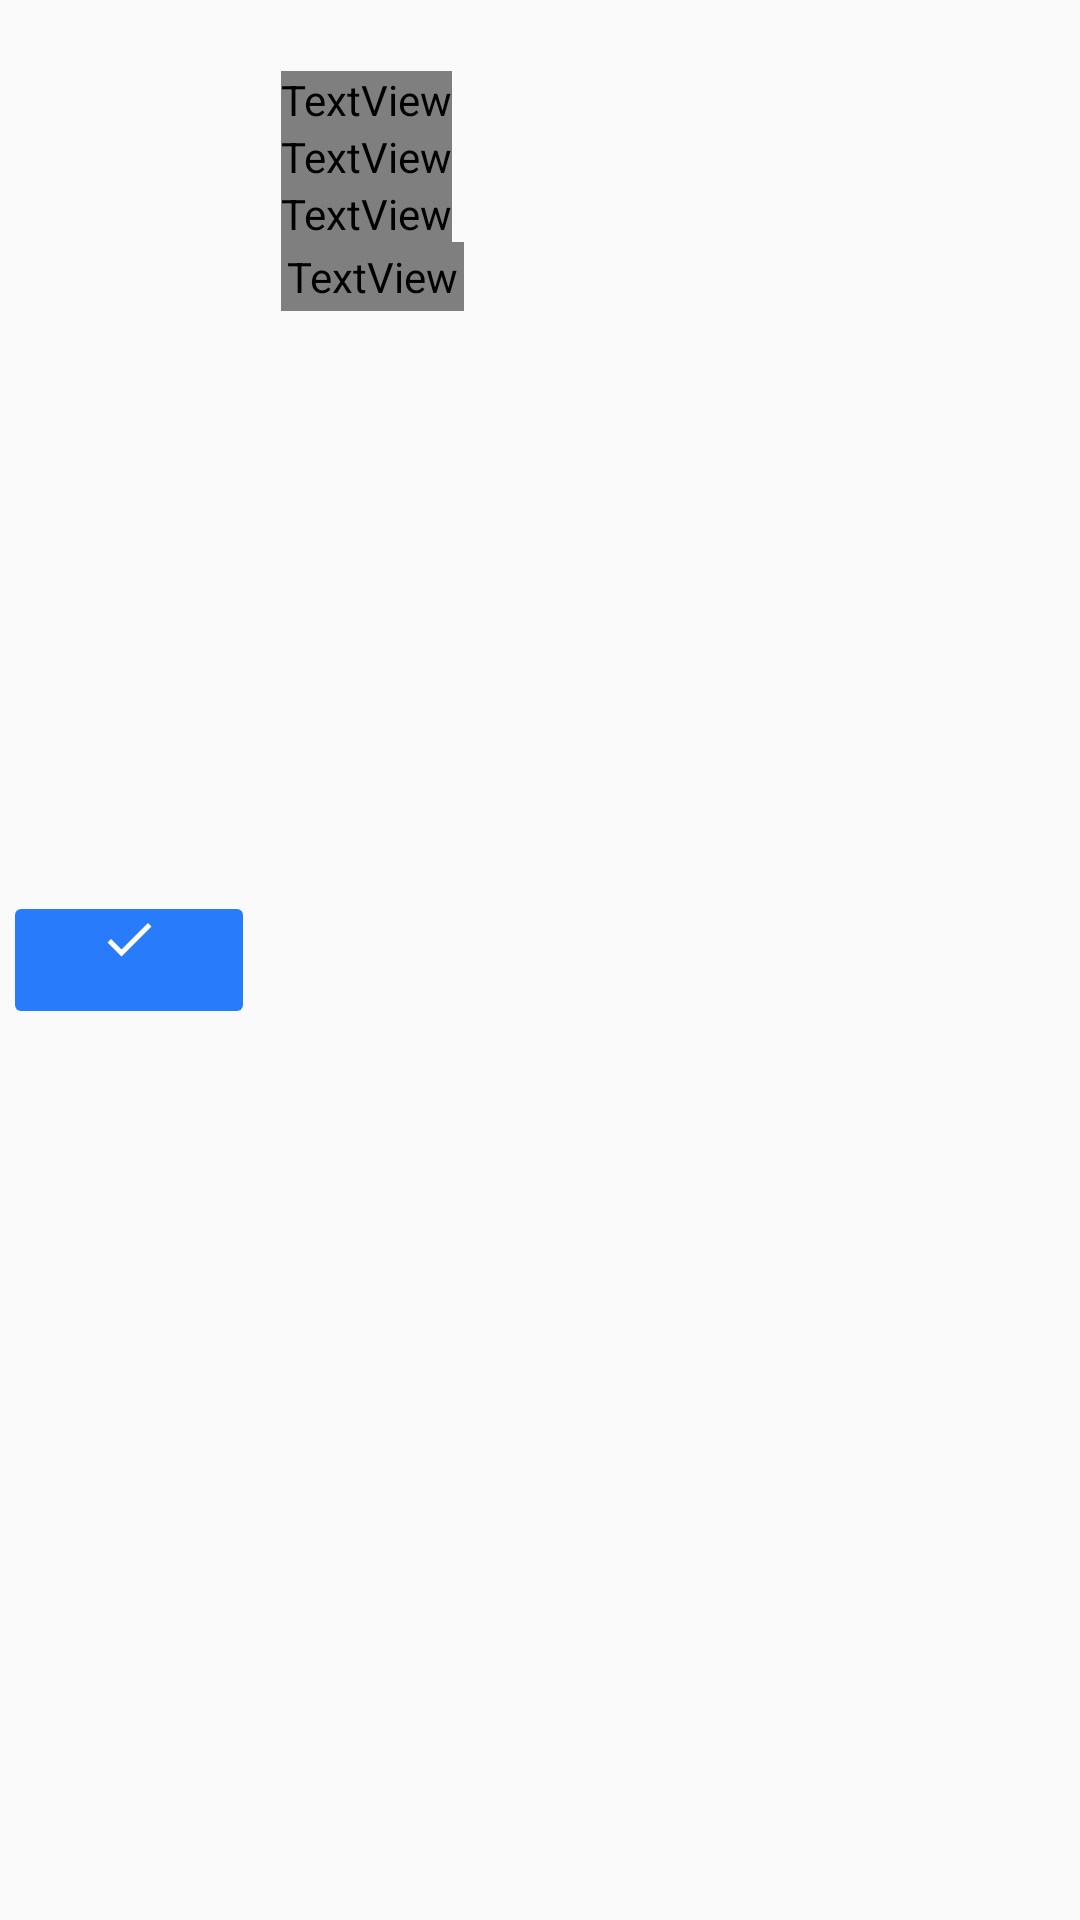

Locate icon controls on the screen. Image size 1080×1920, boxes as (x1, y1, x2, y2).
check: (107, 923, 152, 957)
